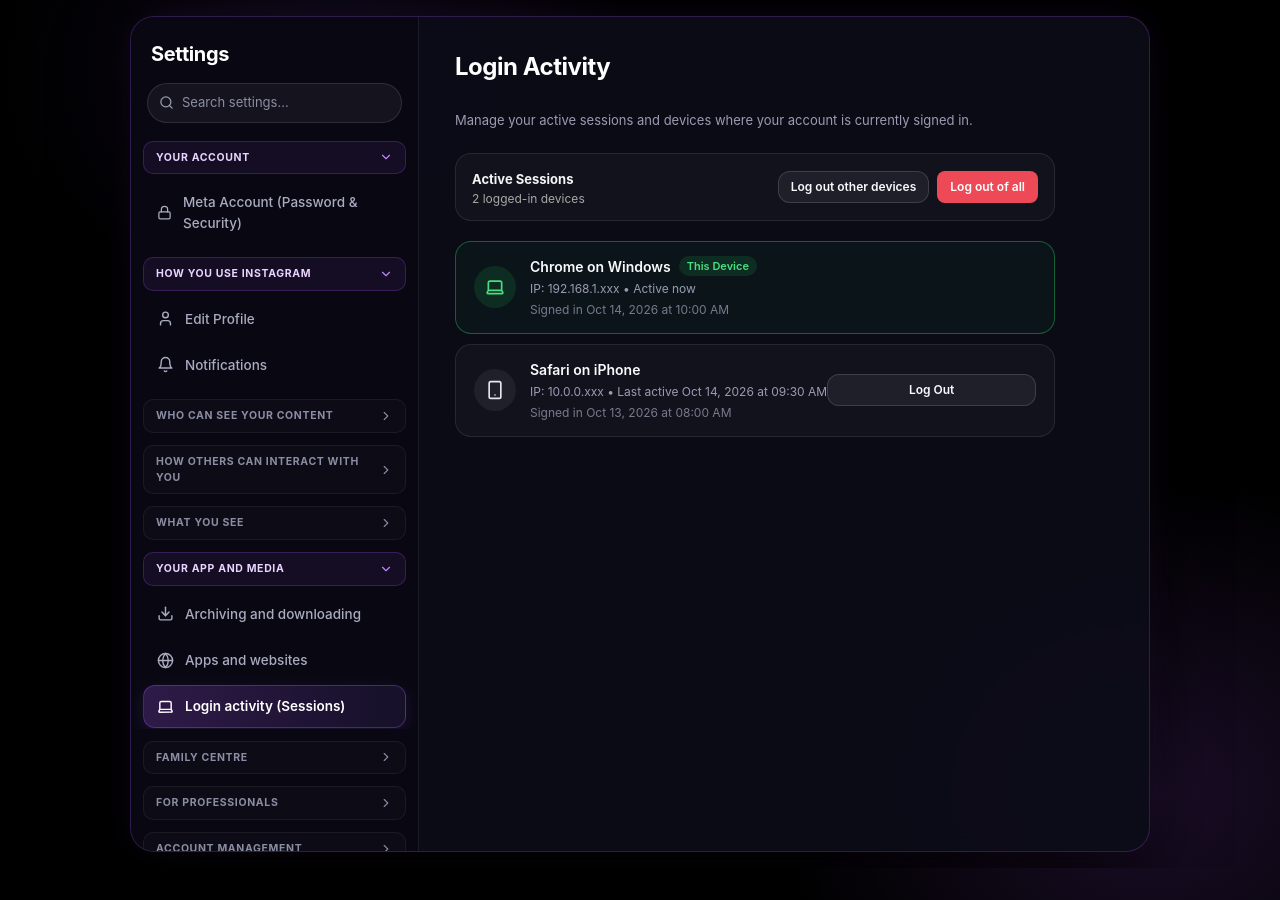
Test: Frontend Session Management & Settings Suite › 3. Revokes a single remote session and refreshes session list
Earlier steps of the test are not shown.
Expected: the text "Safari on iPhone" is shown, [530,358,640,380]
Click the button "Log Out".
click(932, 390)  # box [827,374,1036,406]
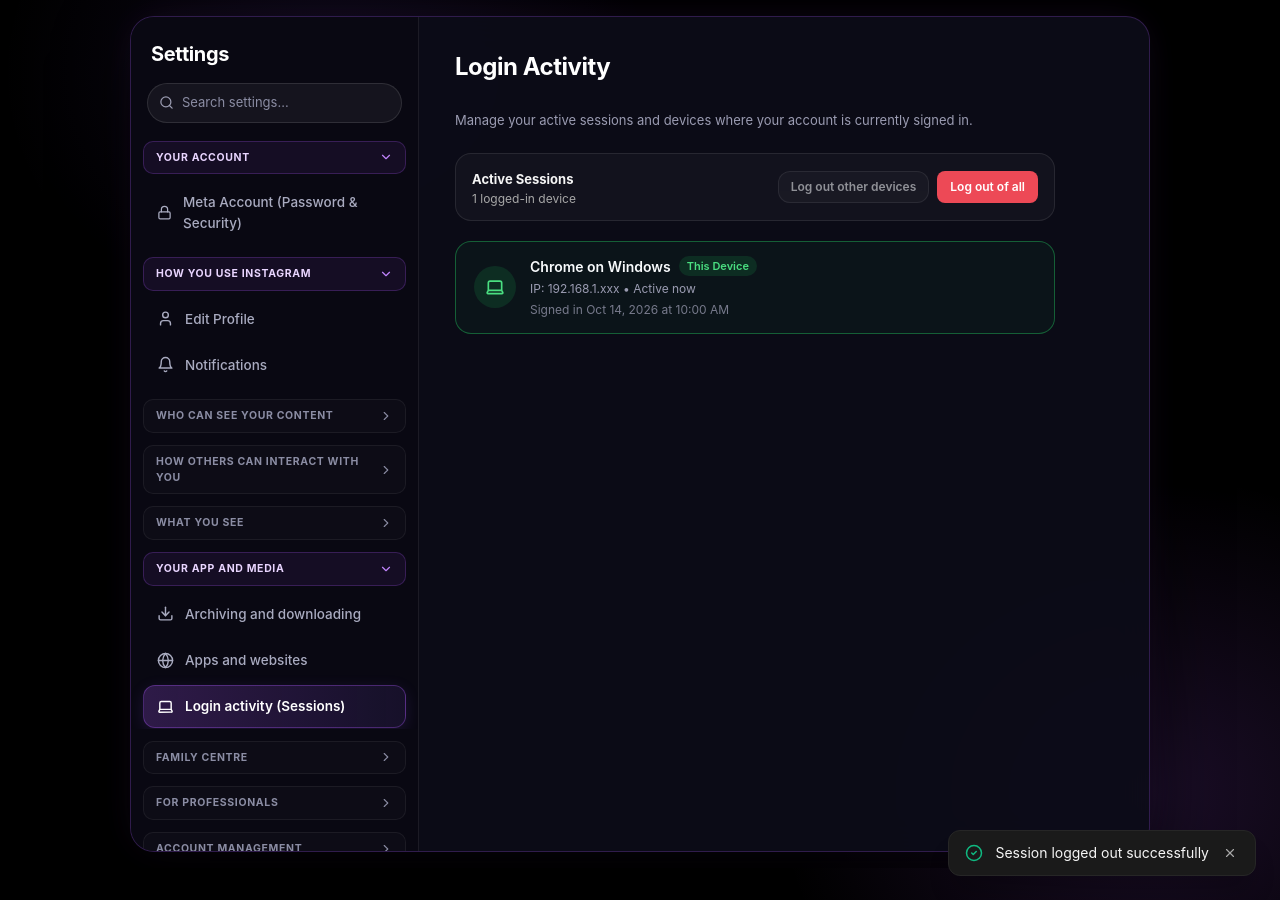
Expected: the text "Safari on iPhone" is gone
